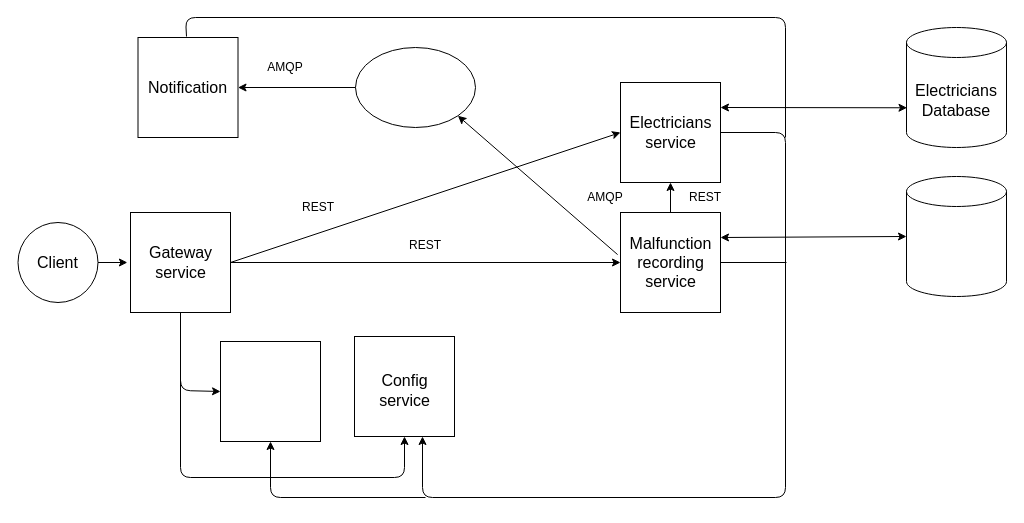
Image size: 1024x523. Some labels were removed from this diagram. Each missing label, with the centre of its shape:
Discovery service: the point at 270,391
Malfunctions Database: the point at 956,236
RabbitMQ: the point at 415,87
